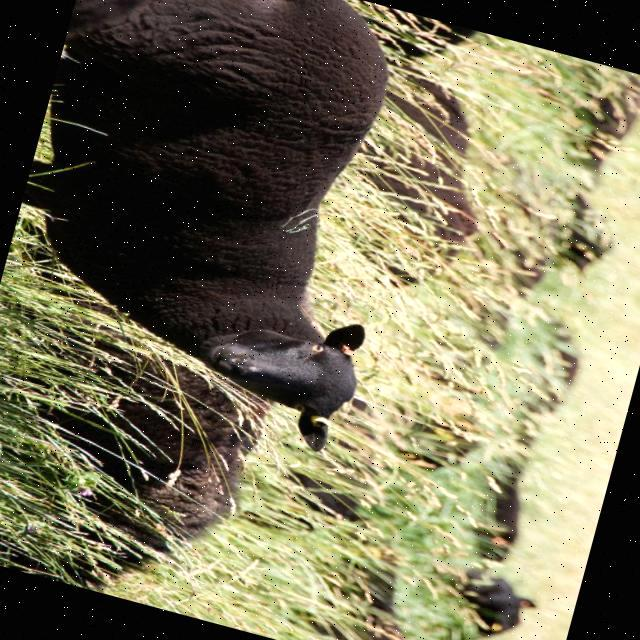sheep: (32, 0, 388, 446), (19, 318, 274, 591), (356, 63, 477, 245), (552, 75, 640, 274)
